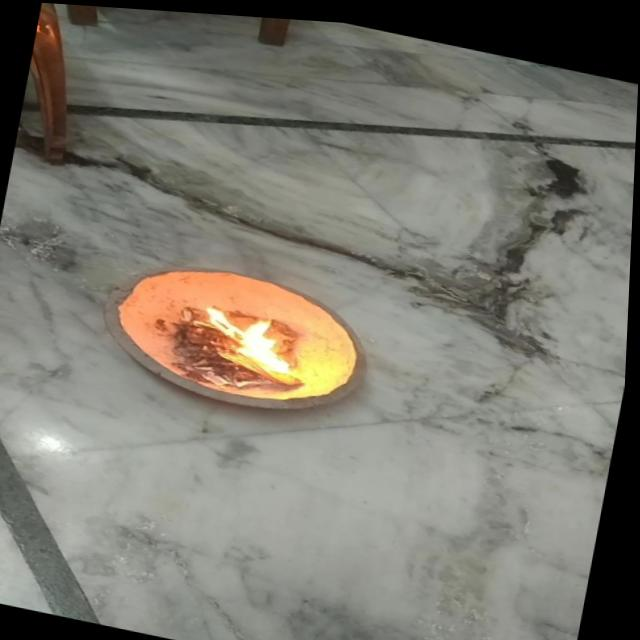fire: (198, 295, 303, 378)
